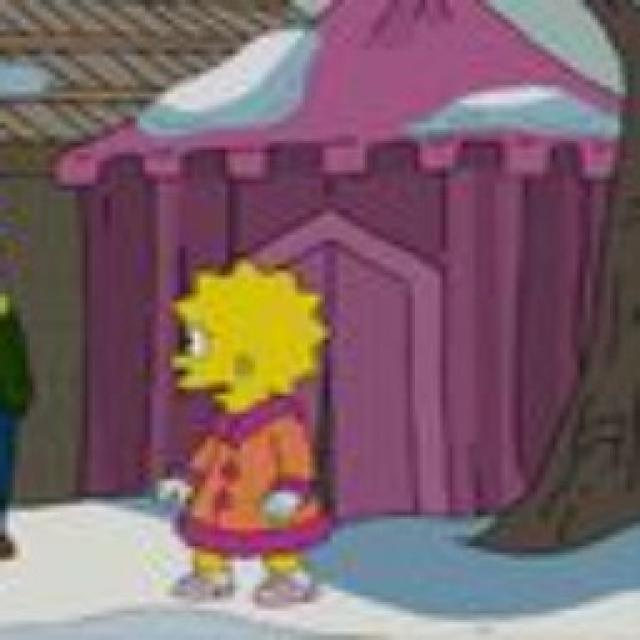Lisa Simpson: (165, 258, 330, 418)
